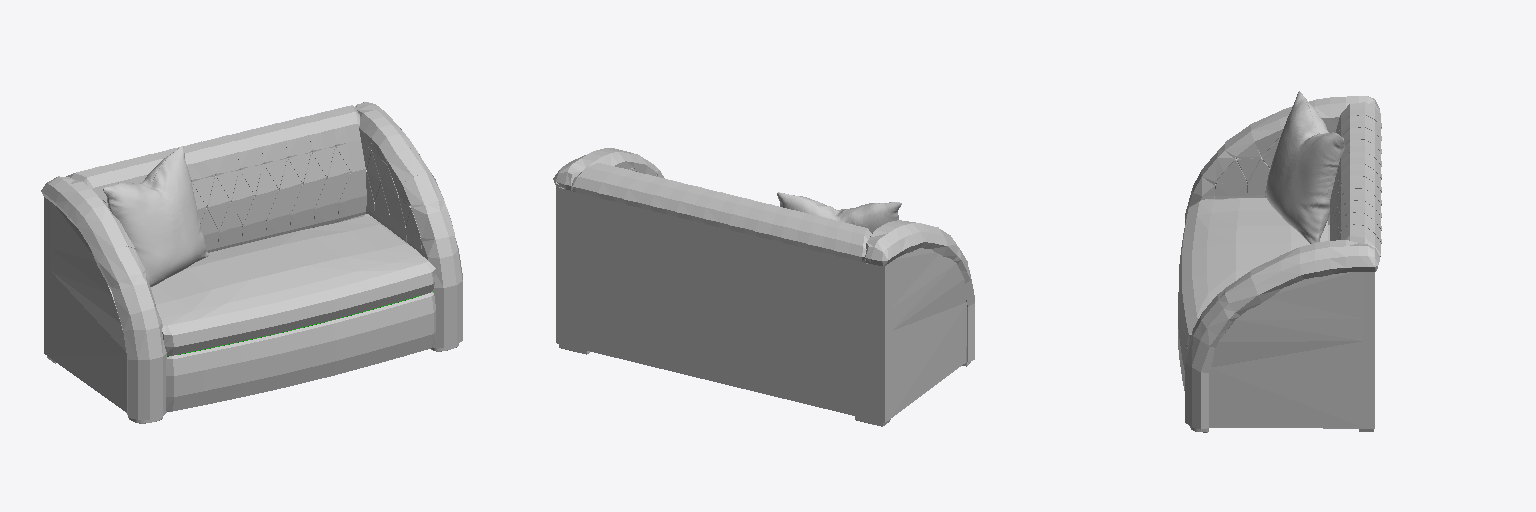
File: sofa.obj
3 views of the same model, side by side, from view 1: azimuth 30°, elevation 25°; view 2: azimuth 150°, elevation 25°; view 3: azimuth 270°, elevation 25° (orthographic).
Parts seen in each view (by area): view 1: ROUND_SOFA; view 2: ROUND_SOFA; view 3: ROUND_SOFA.
Part boxes in pixels (x1,y1,x2,y2): ROUND_SOFA: (41,102,462,423); ROUND_SOFA: (553,148,974,426); ROUND_SOFA: (1178,91,1381,432).
Bounding box in the file's own units: 16.57 × 9.11 × 8.67.